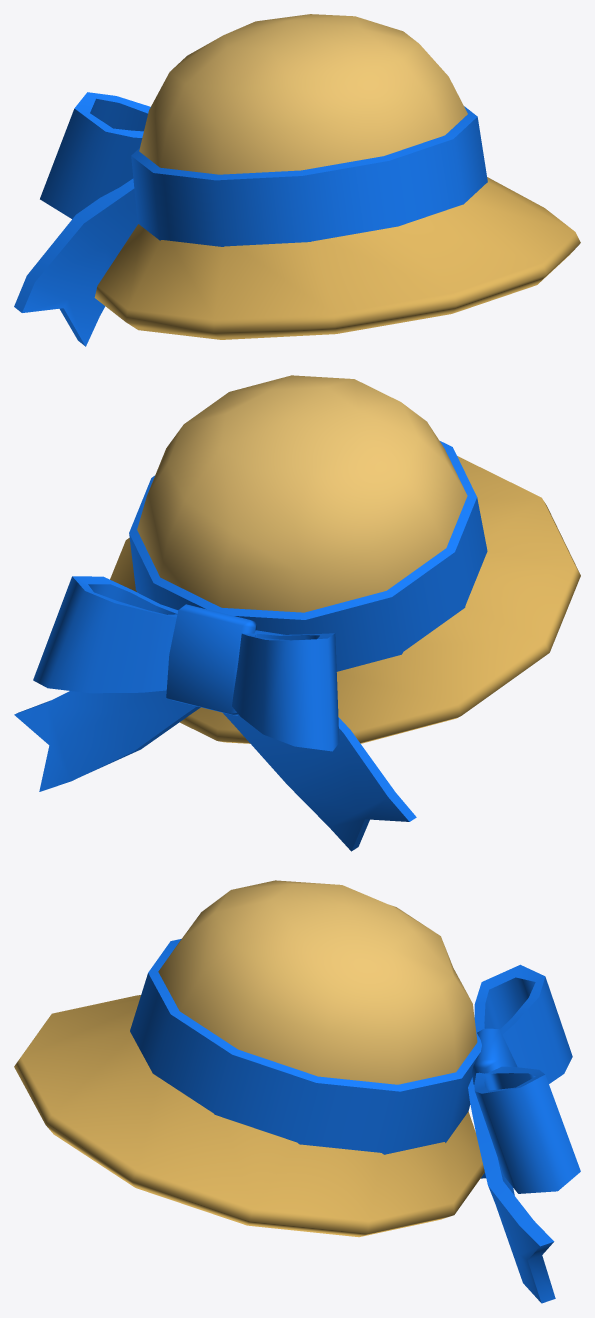
Rendered from Headgear_17.fbx.
3 renders of one model, top to bottom at view 1: azimuth 30°, elevation 25°; view 2: azimuth 150°, elevation 25°; view 3: azimuth 270°, elevation 25°, orthographic.
Visible parts, largest first — view 1: Headgear_17; view 2: Headgear_17; view 3: Headgear_17.
Boxes of the visible parts, x1,y1,x2,y2 form: Headgear_17: (14,14,580,346); Headgear_17: (14,375,580,851); Headgear_17: (14,880,580,1303).
Bounding box in the file's own units: 113 × 88.84 × 132.
